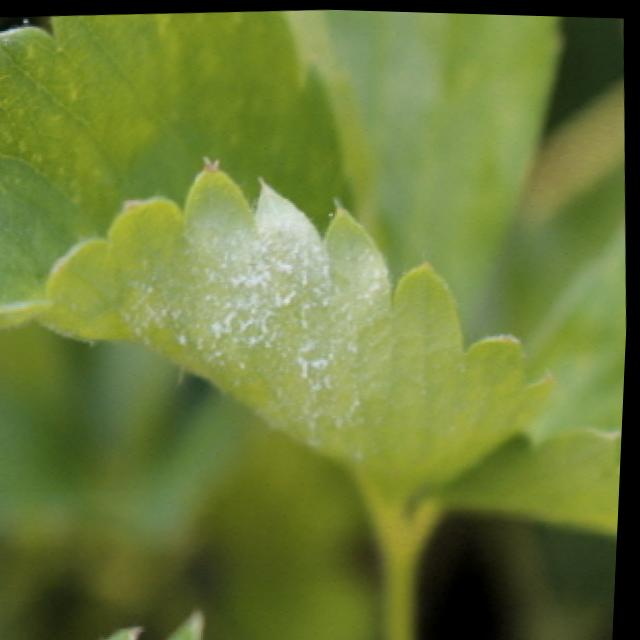Powdery Mildew Leaf: (0, 8, 560, 500)
